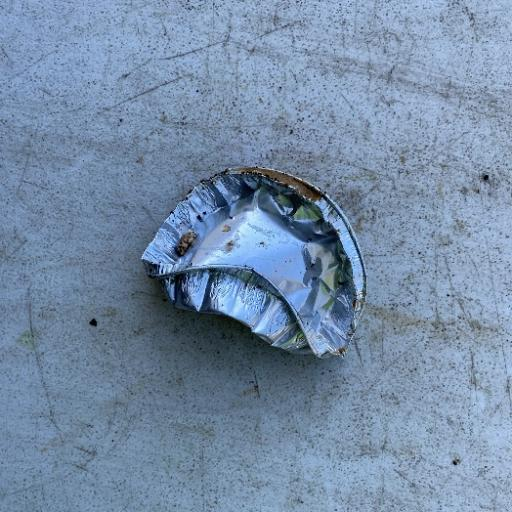Metal: (139, 164, 367, 361)
